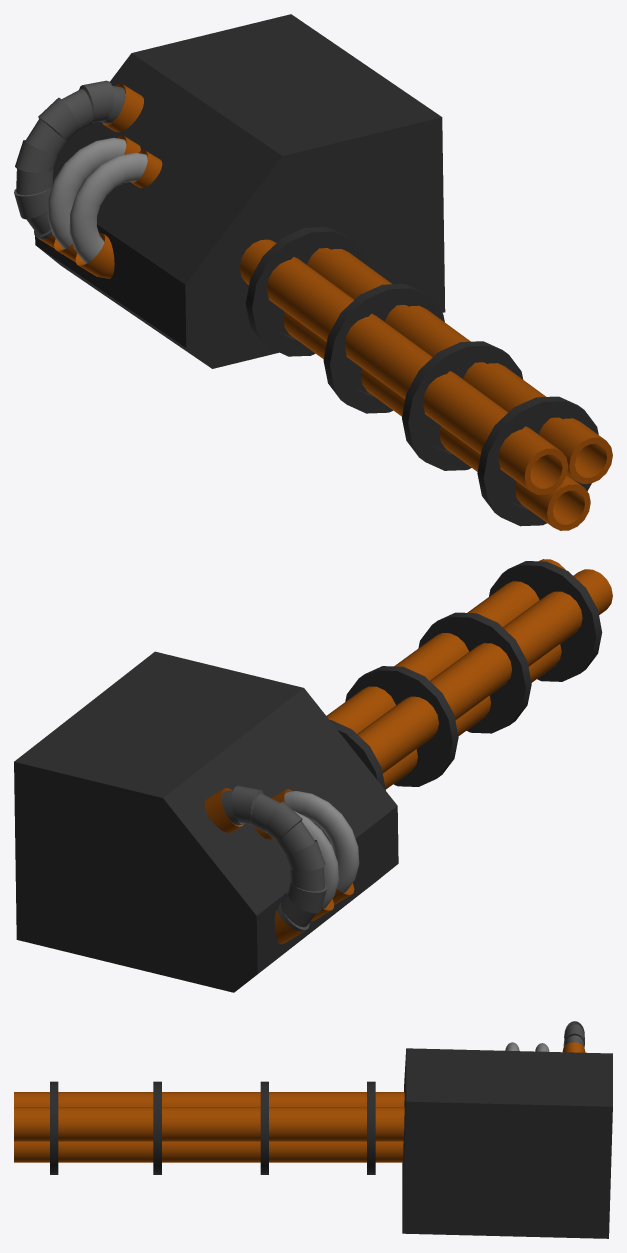
File: leftGUN.fbx
The picture shows the model from 3 angles, top to bottom: view 1: azimuth 30°, elevation 25°; view 2: azimuth 150°, elevation 25°; view 3: azimuth 270°, elevation 25°; orthographic projection. The views are drawn at different scales.
Visible parts, largest first — view 1: polySurface181, pCylinder65; view 2: polySurface181, pCylinder65; view 3: polySurface181, pCylinder65.
Boxes of the visible parts, x1,y1,x2,y2 form: polySurface181: [14, 14, 445, 368]; pCylinder65: [239, 227, 612, 530]; polySurface181: [14, 651, 398, 992]; pCylinder65: [326, 559, 612, 790]; polySurface181: [402, 1021, 612, 1238]; pCylinder65: [14, 1081, 404, 1174].
Size of the model in its own units: 1.52 by 0.954 by 3.77.
